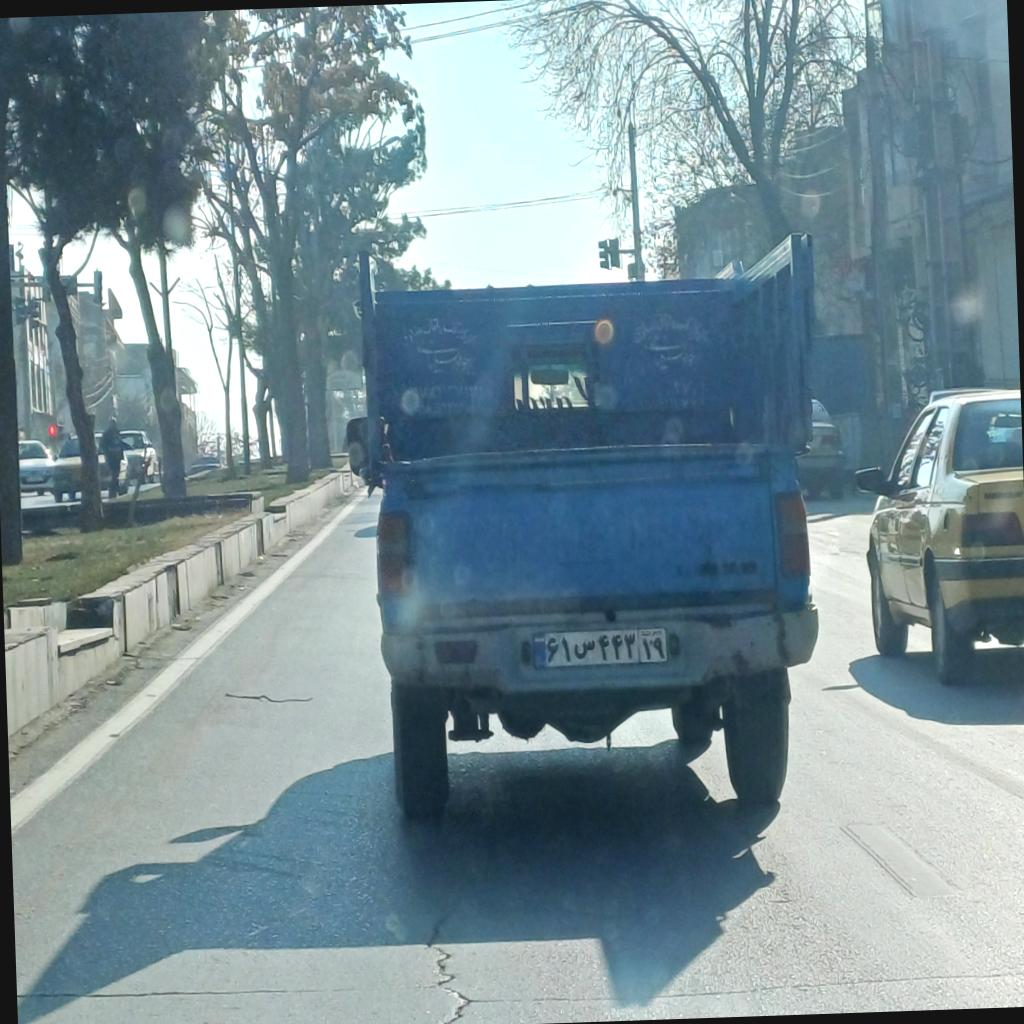Plates: (531, 627, 667, 666)
